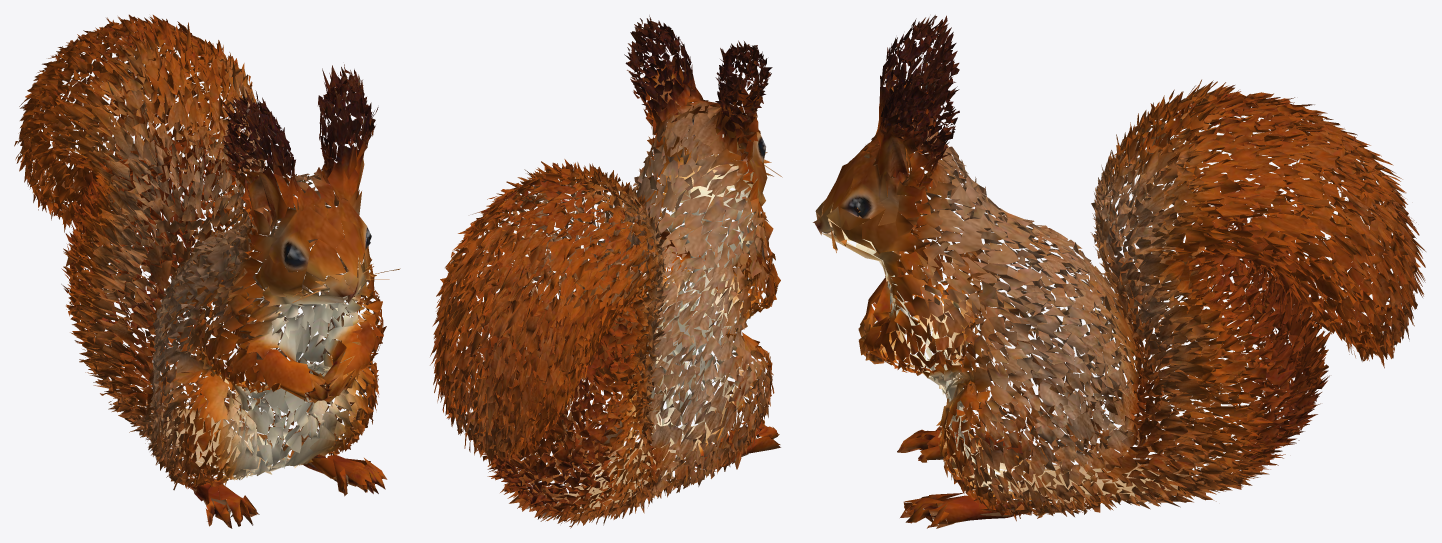
Rendered from squirrel.glb.
The picture shows the model from 3 angles, left to right: view 1: azimuth 30°, elevation 25°; view 2: azimuth 150°, elevation 25°; view 3: azimuth 270°, elevation 25°; orthographic projection. The views are drawn at different scales.
Visible parts, largest first — view 1: squirrel; view 2: squirrel; view 3: squirrel.
Part boxes in pixels (<box>): squirrel: <box>14,14,400,528</box>; squirrel: <box>430,15,782,528</box>; squirrel: <box>813,15,1425,528</box>.
Bounding box in the file's own units: 0.1518 × 0.2981 × 0.3706.
Materials: 1 (1 with a texture image).
